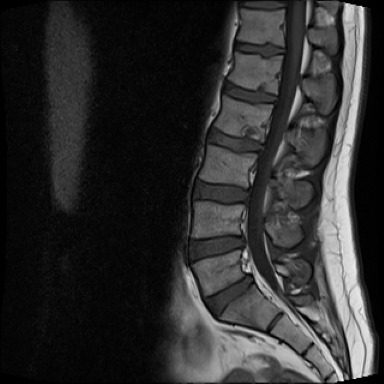Degenerative Disc Disease (DDD): (204, 126, 267, 157)
Lumbar Disc Bulge (LDB): (199, 271, 256, 324), (185, 232, 250, 266)
Normal IVD: (192, 179, 253, 206), (219, 80, 279, 105), (232, 40, 287, 57)
Spinal Stenosis (SS): (238, 269, 258, 291), (232, 230, 249, 252)
